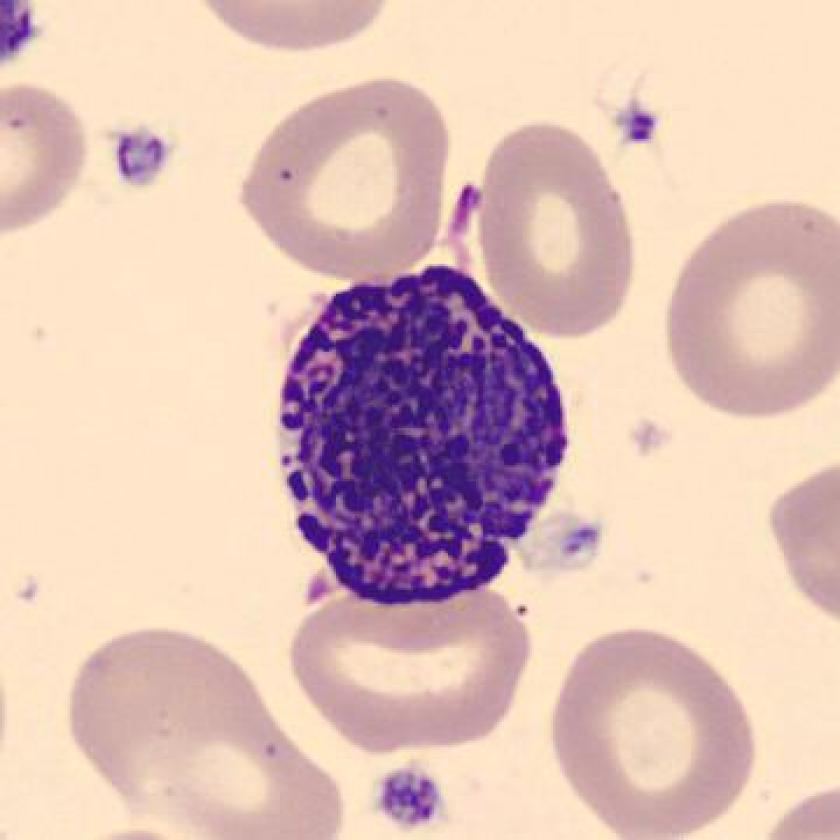basophil: (276, 255, 568, 612)
